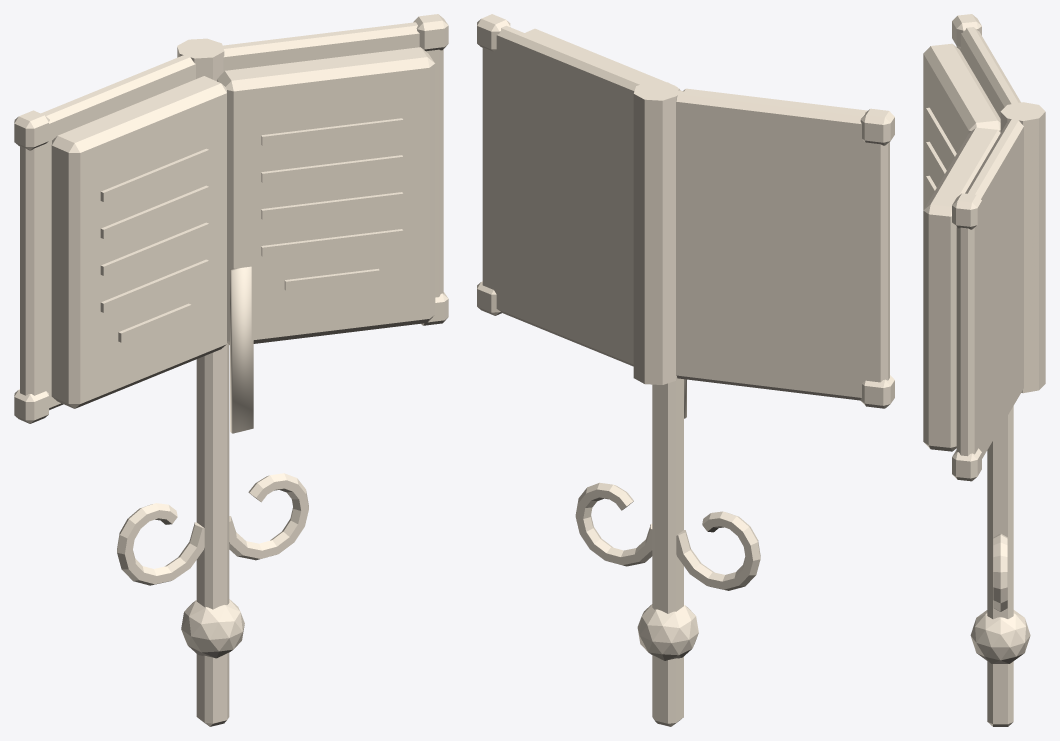
The model's file is SM_VK_Emblem_Ridge_Book.fbx.
3 views of the same model, side by side, from view 1: azimuth 30°, elevation 25°; view 2: azimuth 150°, elevation 25°; view 3: azimuth 270°, elevation 25° (orthographic). The views are drawn at different scales.
Visible parts, largest first — view 1: SM_VK_Emblem_Ridge_Book.001; view 2: SM_VK_Emblem_Ridge_Book.001; view 3: SM_VK_Emblem_Ridge_Book.001.
Boxes of the visible parts, box(x1,y1,x2,y2) form: SM_VK_Emblem_Ridge_Book.001: box(14, 14, 448, 726); SM_VK_Emblem_Ridge_Book.001: box(477, 14, 894, 726); SM_VK_Emblem_Ridge_Book.001: box(923, 14, 1045, 726).
Size of the model in its own units: 1.22 by 1.81 by 0.3258.
